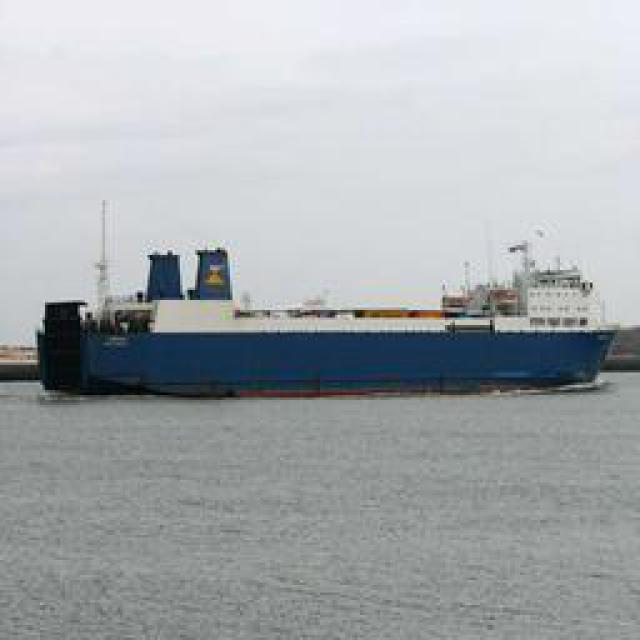Ship: (57, 235, 620, 395)
